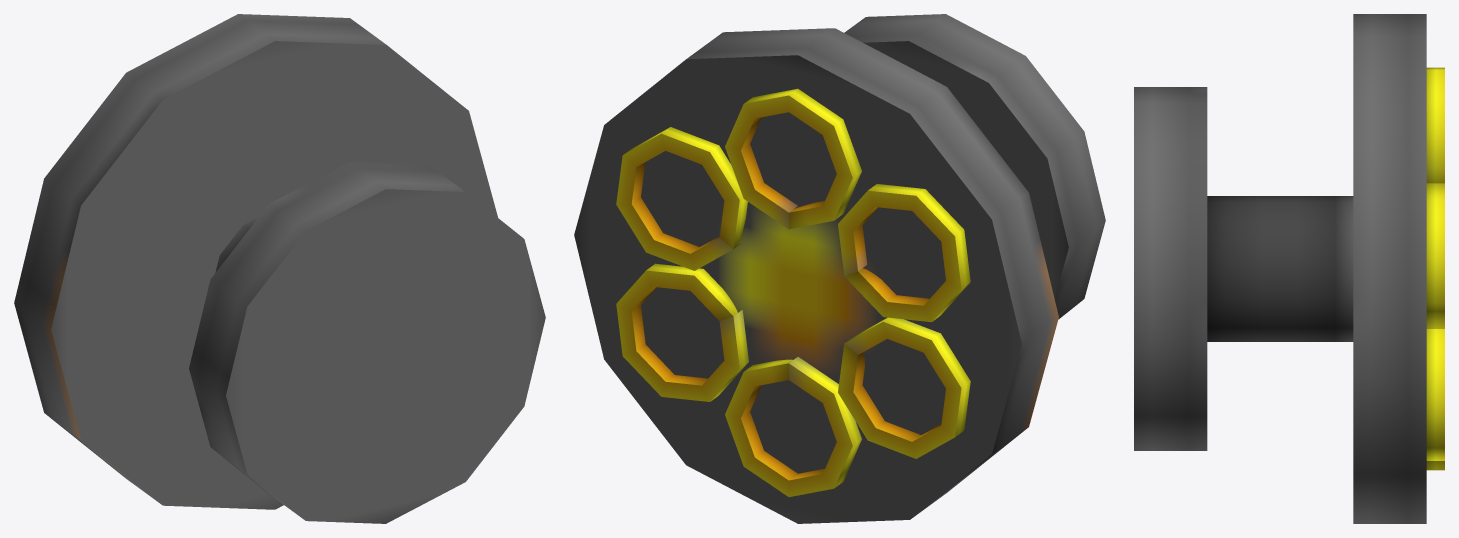
Rendered from pepperbox_speedloader.obj.
3 views of the same model, side by side, from view 1: azimuth 30°, elevation 25°; view 2: azimuth 150°, elevation 25°; view 3: azimuth 270°, elevation 25° (orthographic).
Parts seen in each view (by area): view 1: speedloader; view 2: speedloader; view 3: speedloader.
Boxes of the visible parts, x1=… form: speedloader: x1=14, y1=14, x2=545, y2=523; speedloader: x1=574, y1=14, x2=1105, y2=523; speedloader: x1=1134, y1=14, x2=1444, y2=523.
Size of the model in its own units: 1.75 by 1.75 by 1.06.
